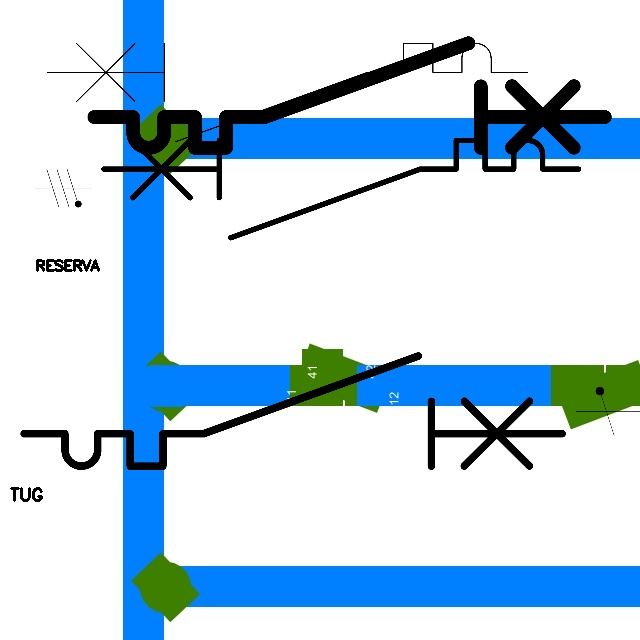interruptor_termomagnetico: (10, 342, 575, 480), (81, 30, 618, 161), (35, 31, 540, 154), (91, 128, 591, 250)
